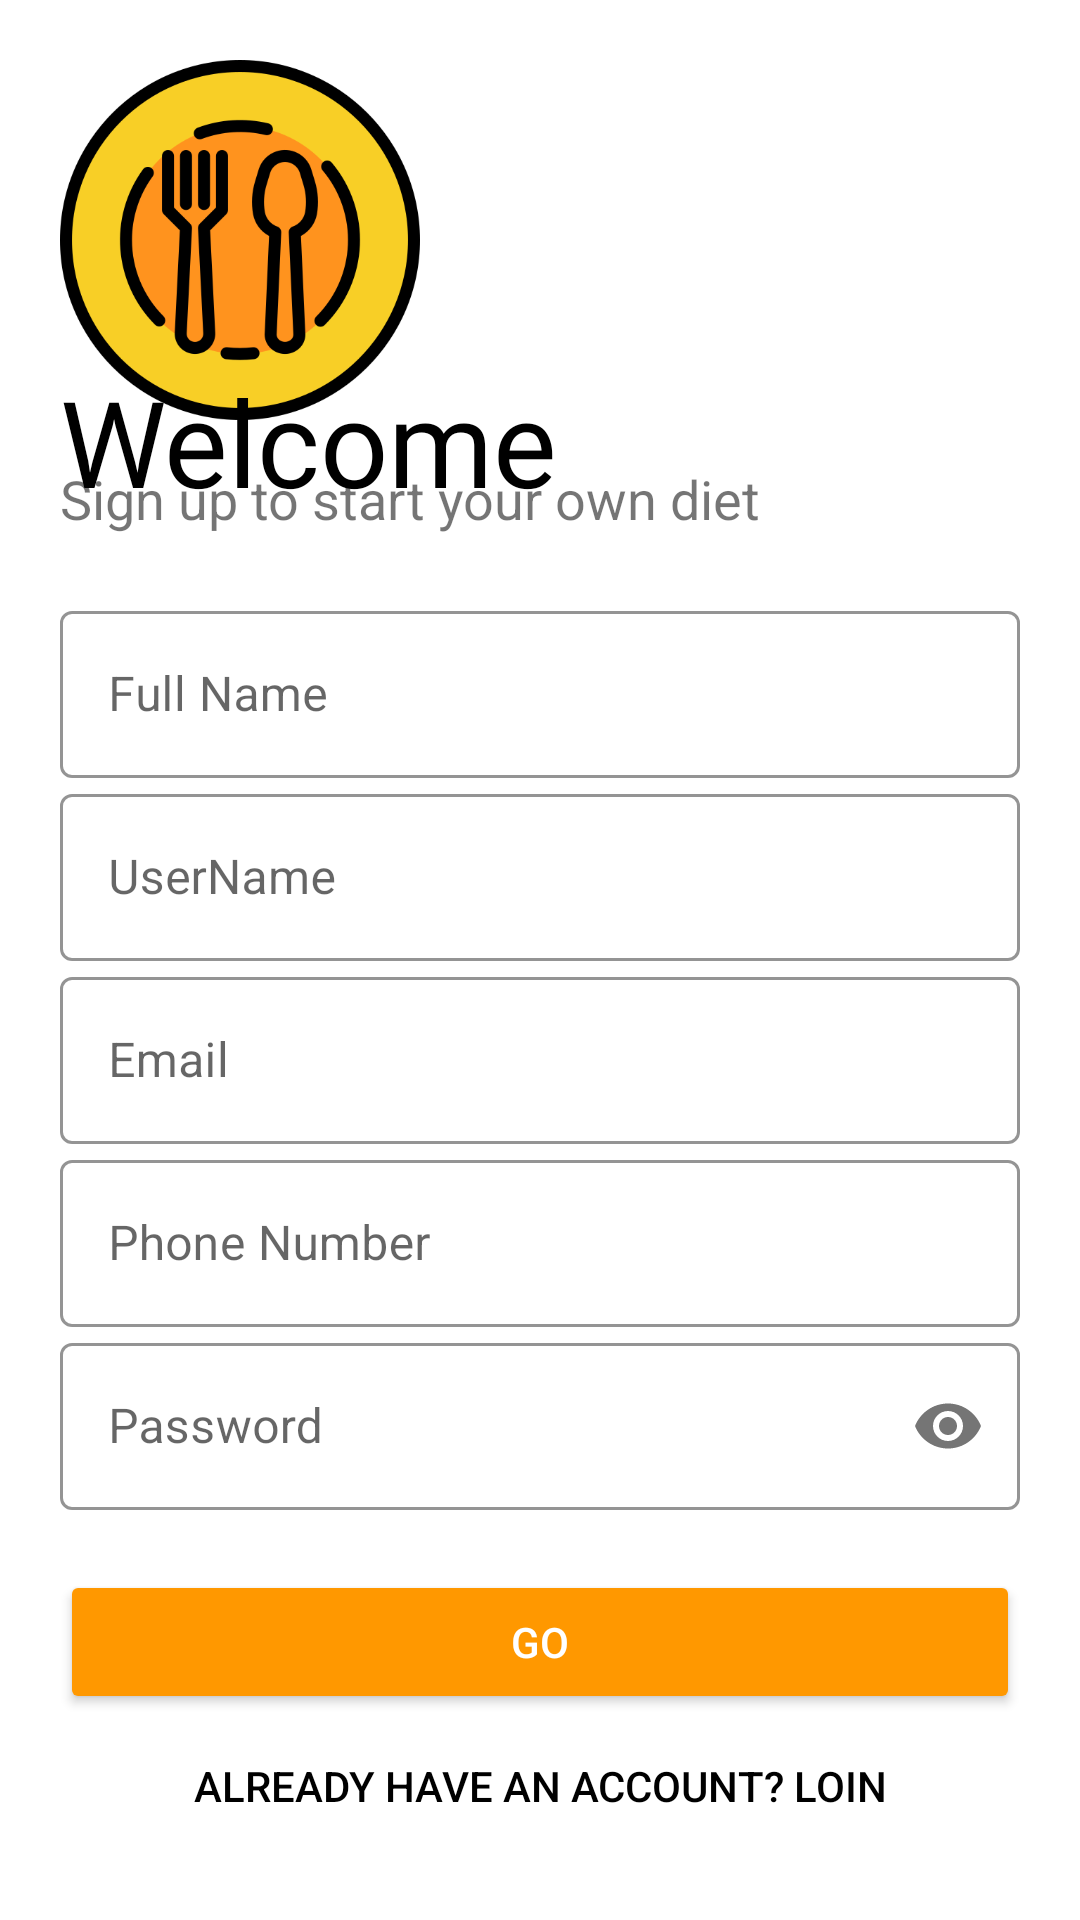

Screen size 1080*1920. Icon name, then its center in pixels as point (x, y):
dish: point (240, 240)
